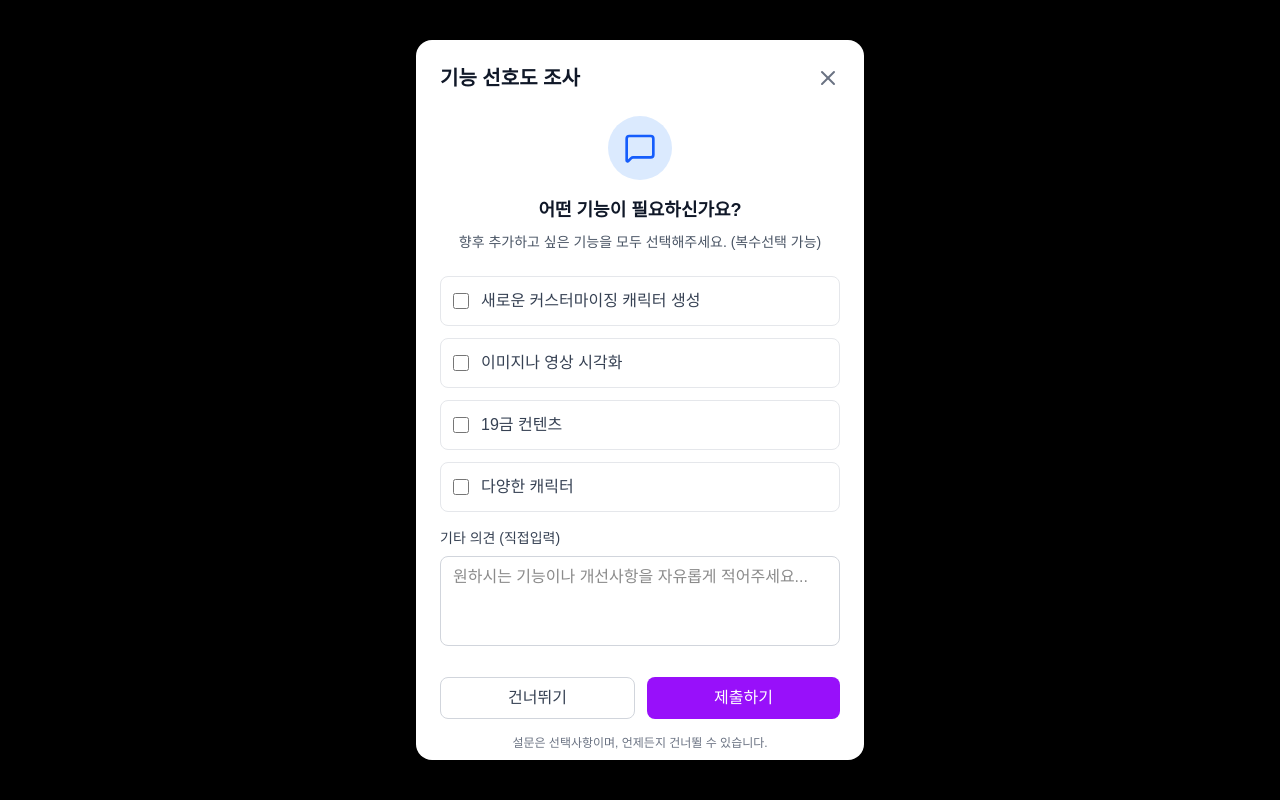
Test case: SurveyPopup › 설문 제출이 성공적으로 처리된다
Step 1. Click the checkbox labelled "새로운 커스터마이징 캐릭터 생성" → (461, 301), box [453,293,469,309]
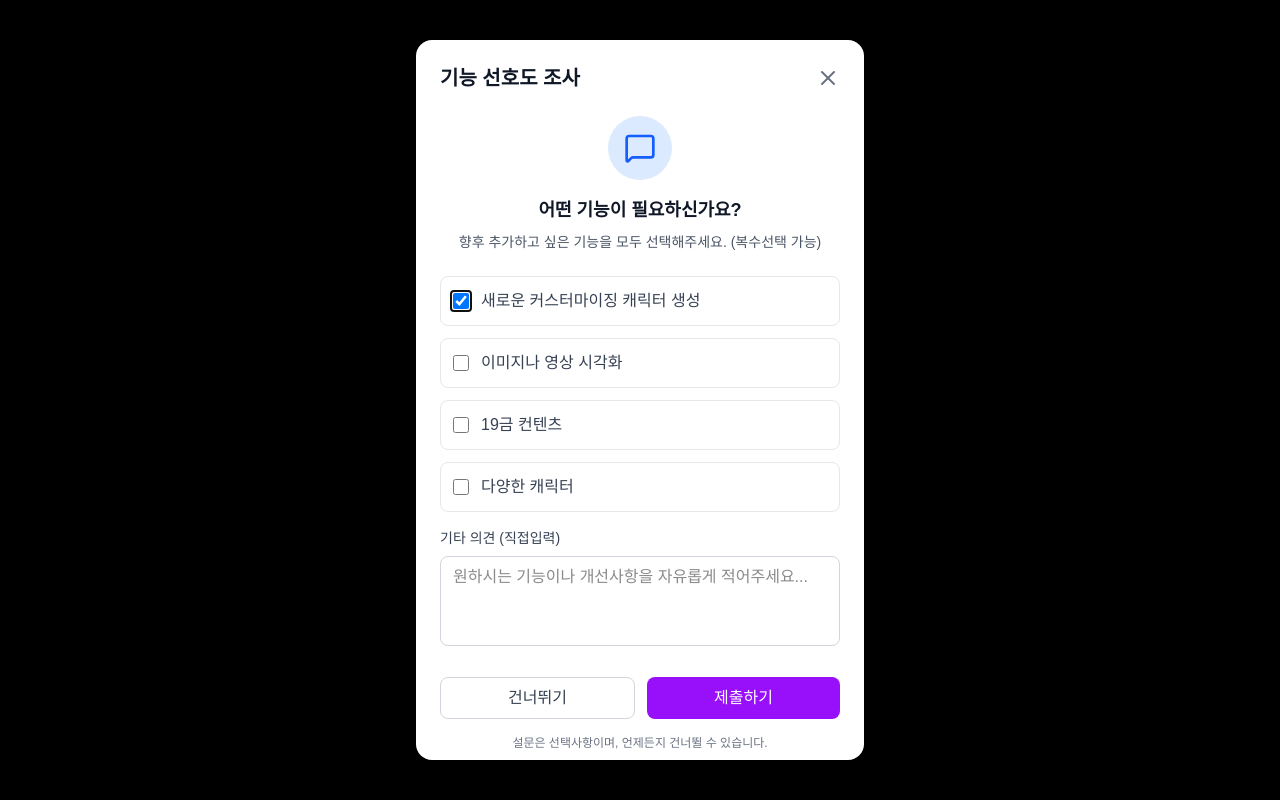
Step 2. Click the checkbox labelled "다양한 캐릭터" → (461, 487), box [453,479,469,495]
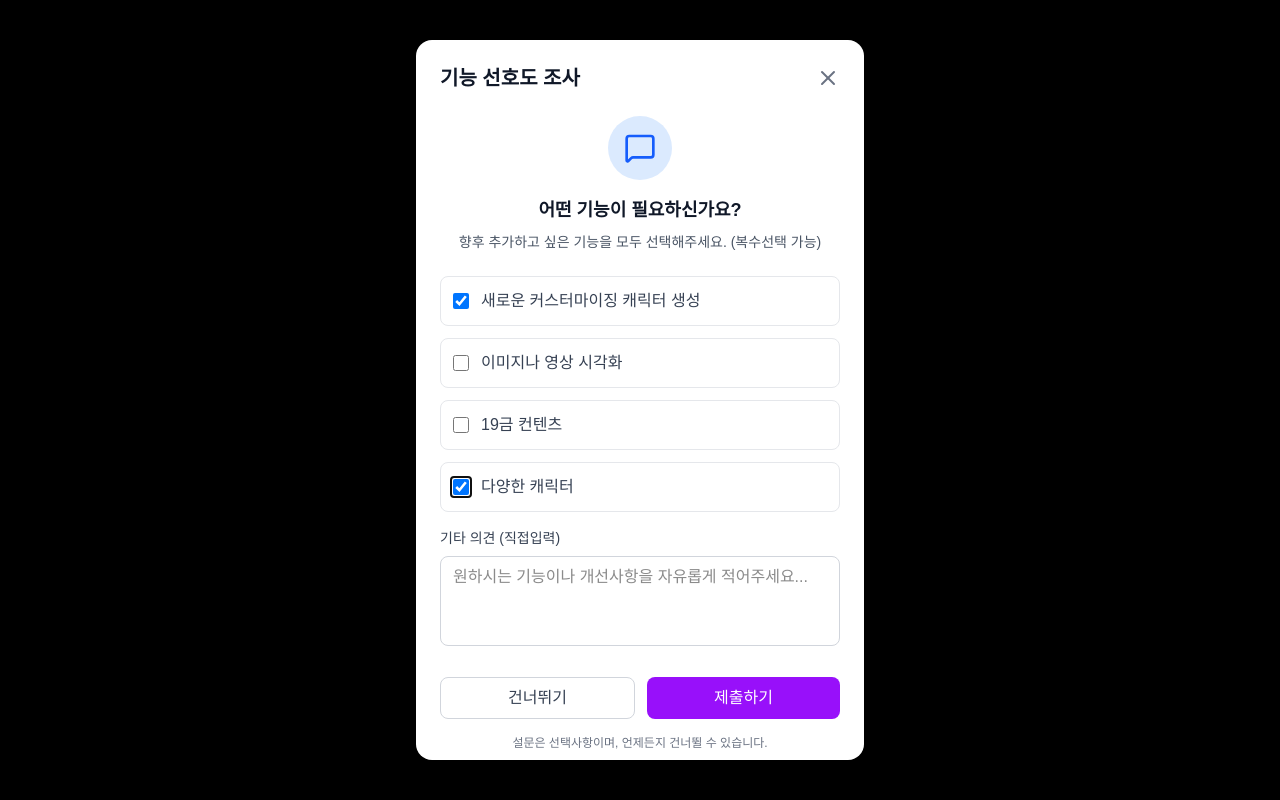
Step 3. Type "음성 채팅 기능" into the text box with placeholder "원하시는 기능이나 개선사항을 자유롭게 적어주세요..." → (640, 601), box [440,556,840,646]
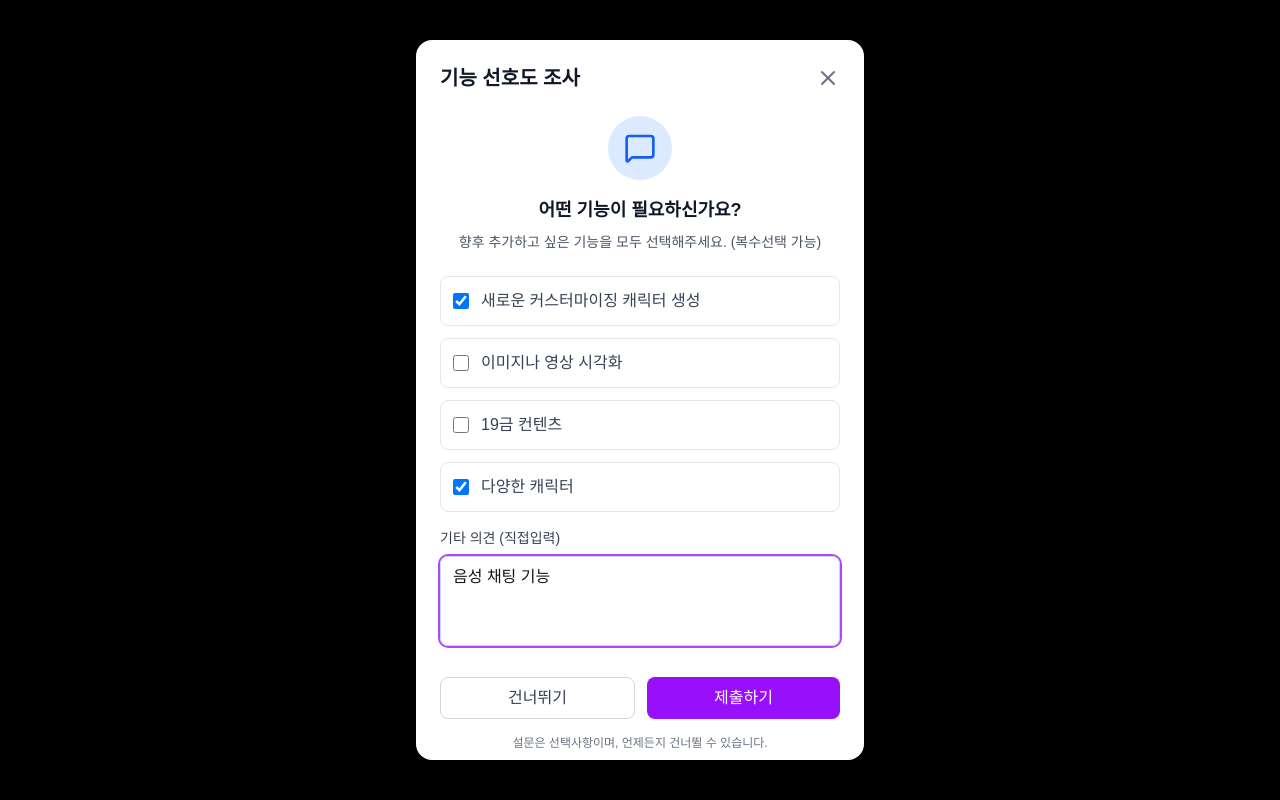
Step 4. Click the button "제출하기" → (744, 698), box [647,677,840,719]
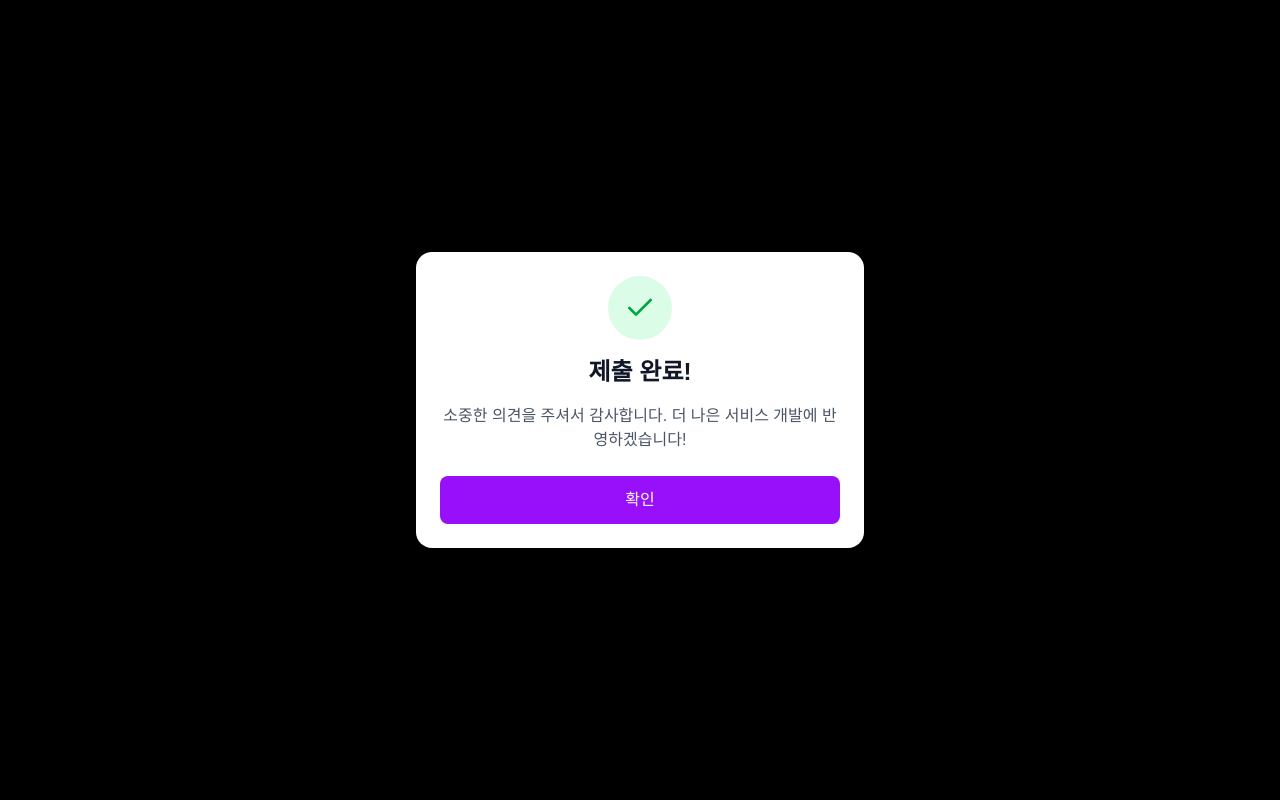
expect the heading "제출 완료!" is shown: met, box [588,358,692,385]
expect the text "소중한 의견을 주셔서 감사합니다. 더 나은 서비스 개발에 반영하겠습니다!" is shown: met, box [440,404,840,452]
